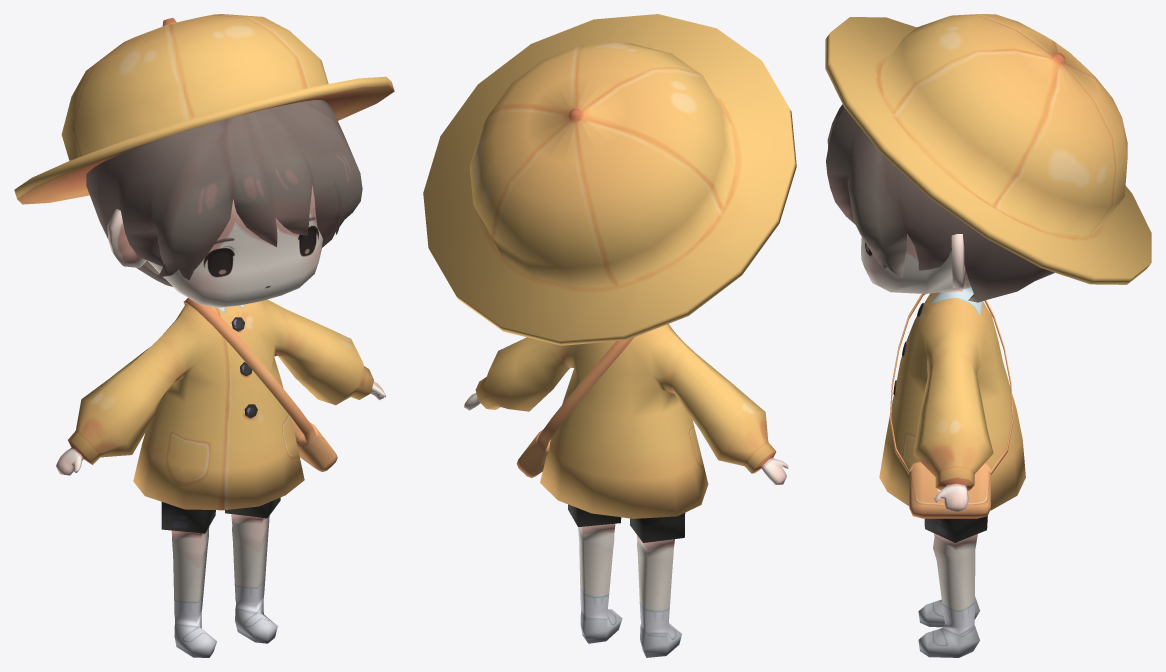
Rendered from child.fbx.
The picture shows the model from 3 angles, left to right: view 1: azimuth 30°, elevation 25°; view 2: azimuth 150°, elevation 25°; view 3: azimuth 270°, elevation 25°; orthographic projection. The views are drawn at different scales.
Visible parts, largest first — view 1: Box008; view 2: Box008; view 3: Box008.
Part boxes in pixels (x1,y1,x2,y2): Box008: (14, 14, 394, 657); Box008: (423, 14, 796, 657); Box008: (825, 14, 1151, 657).
Bounding box in the file's own units: 56.64 × 96 × 46.67.
1 material, 1 textured.
